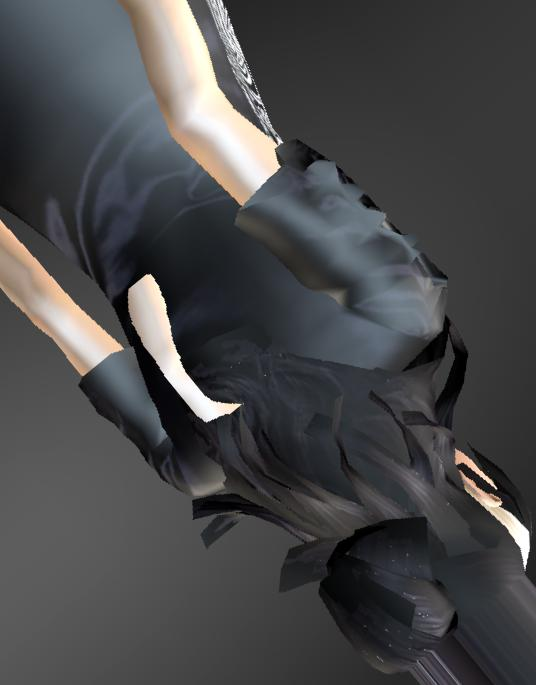clip: (124, 265, 182, 335)
